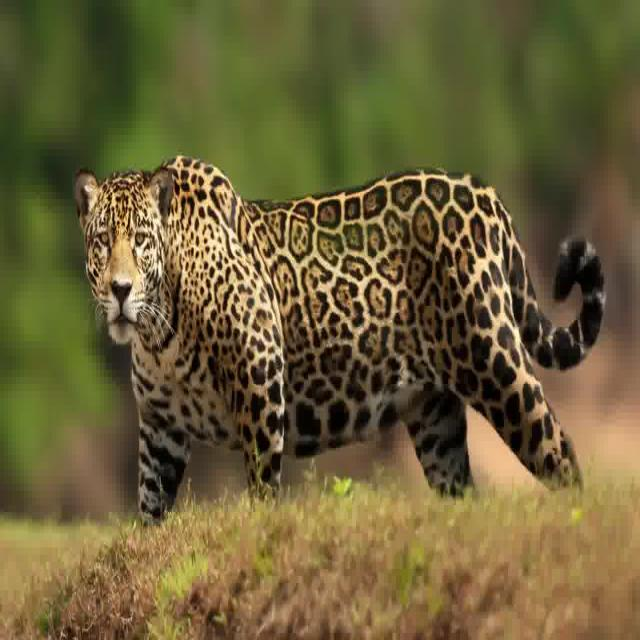Jaguar: (64, 148, 616, 512)
